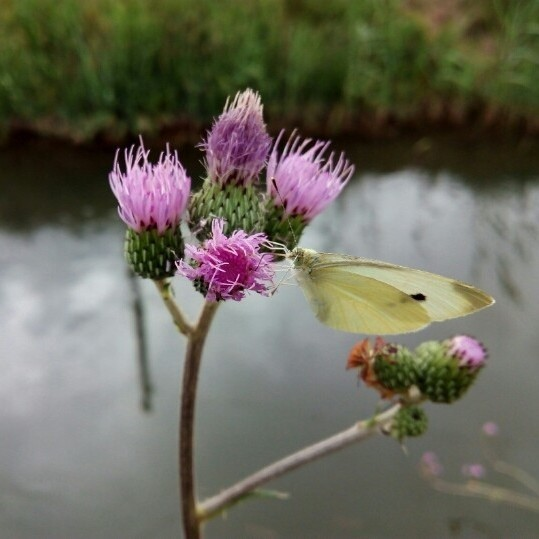obstacle: (105, 86, 349, 514)
